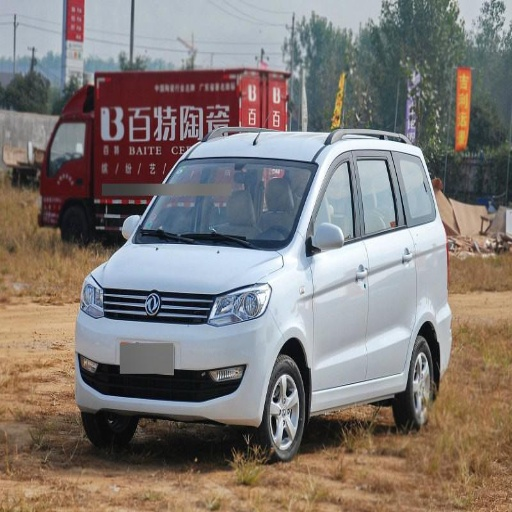front_bumper: (79, 288, 279, 425)
front_glass: (133, 156, 318, 249)
front_left_door: (306, 151, 369, 391)
